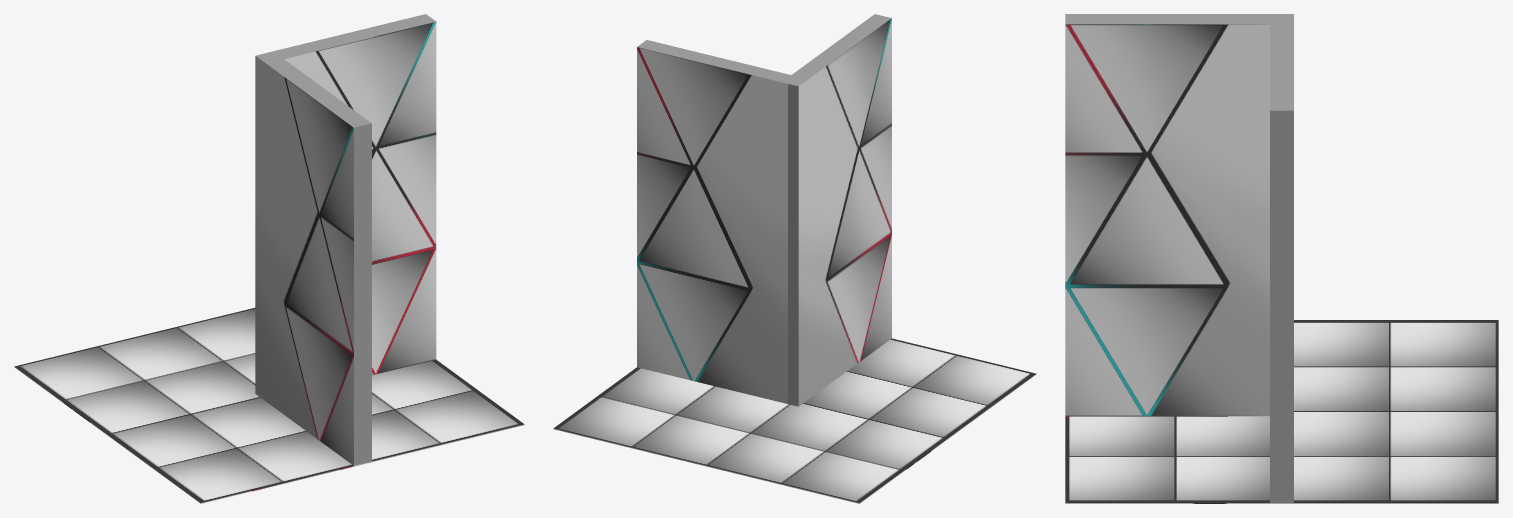
File: cornerwall.fbx
3 views of the same model, side by side, from view 1: azimuth 30°, elevation 25°; view 2: azimuth 150°, elevation 25°; view 3: azimuth 270°, elevation 25° (orthographic). The views are drawn at different scales.
Visible parts, largest first — view 1: polySurface597; view 2: polySurface597; view 3: polySurface597.
Part boxes in pixels (x1,y1,x2,y2): polySurface597: [14, 14, 524, 503]; polySurface597: [553, 14, 1036, 503]; polySurface597: [1065, 14, 1498, 503].
Size of the model in its own units: 2 by 2 by 2.
